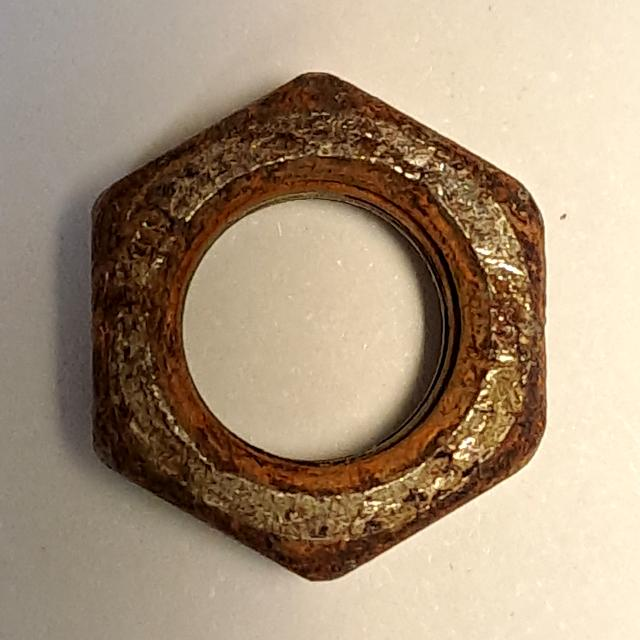Rust: (68, 53, 561, 596)
